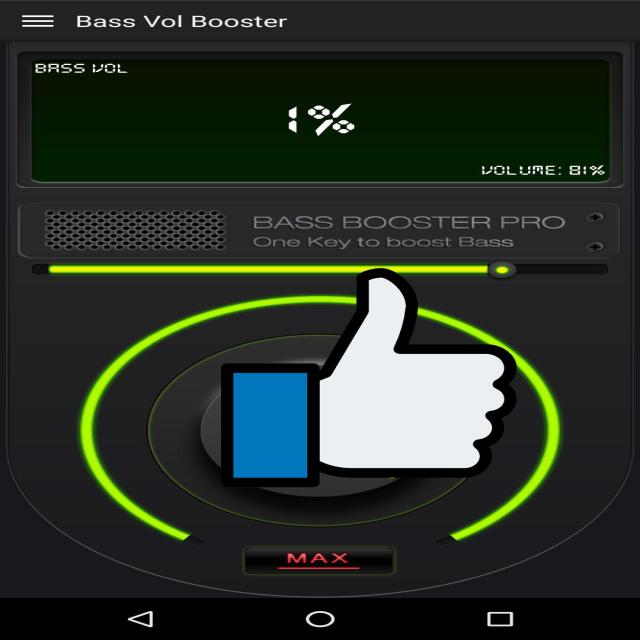privacy zuckering: (221, 263, 517, 492)
